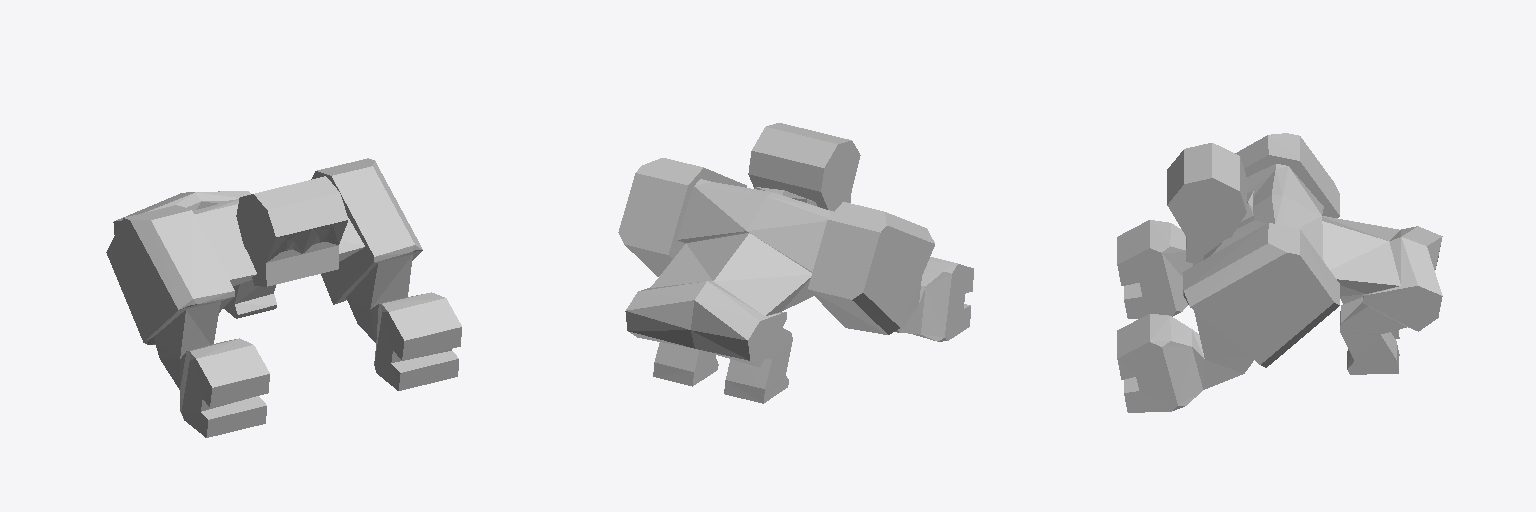
Rendered from kong_000023.obj.
3 views of the same model, side by side, from view 1: azimuth 30°, elevation 25°; view 2: azimuth 150°, elevation 25°; view 3: azimuth 270°, elevation 25° (orthographic).
Parts seen in each view (by area): view 1: Cube; view 2: Cube; view 3: Cube.
Boxes of the visible parts, x1,y1,x2,y2 form: Cube: [106, 158, 461, 437]; Cube: [618, 123, 973, 403]; Cube: [1117, 133, 1442, 412].
Size of the model in its own units: 5.84 by 4.25 by 6.54.